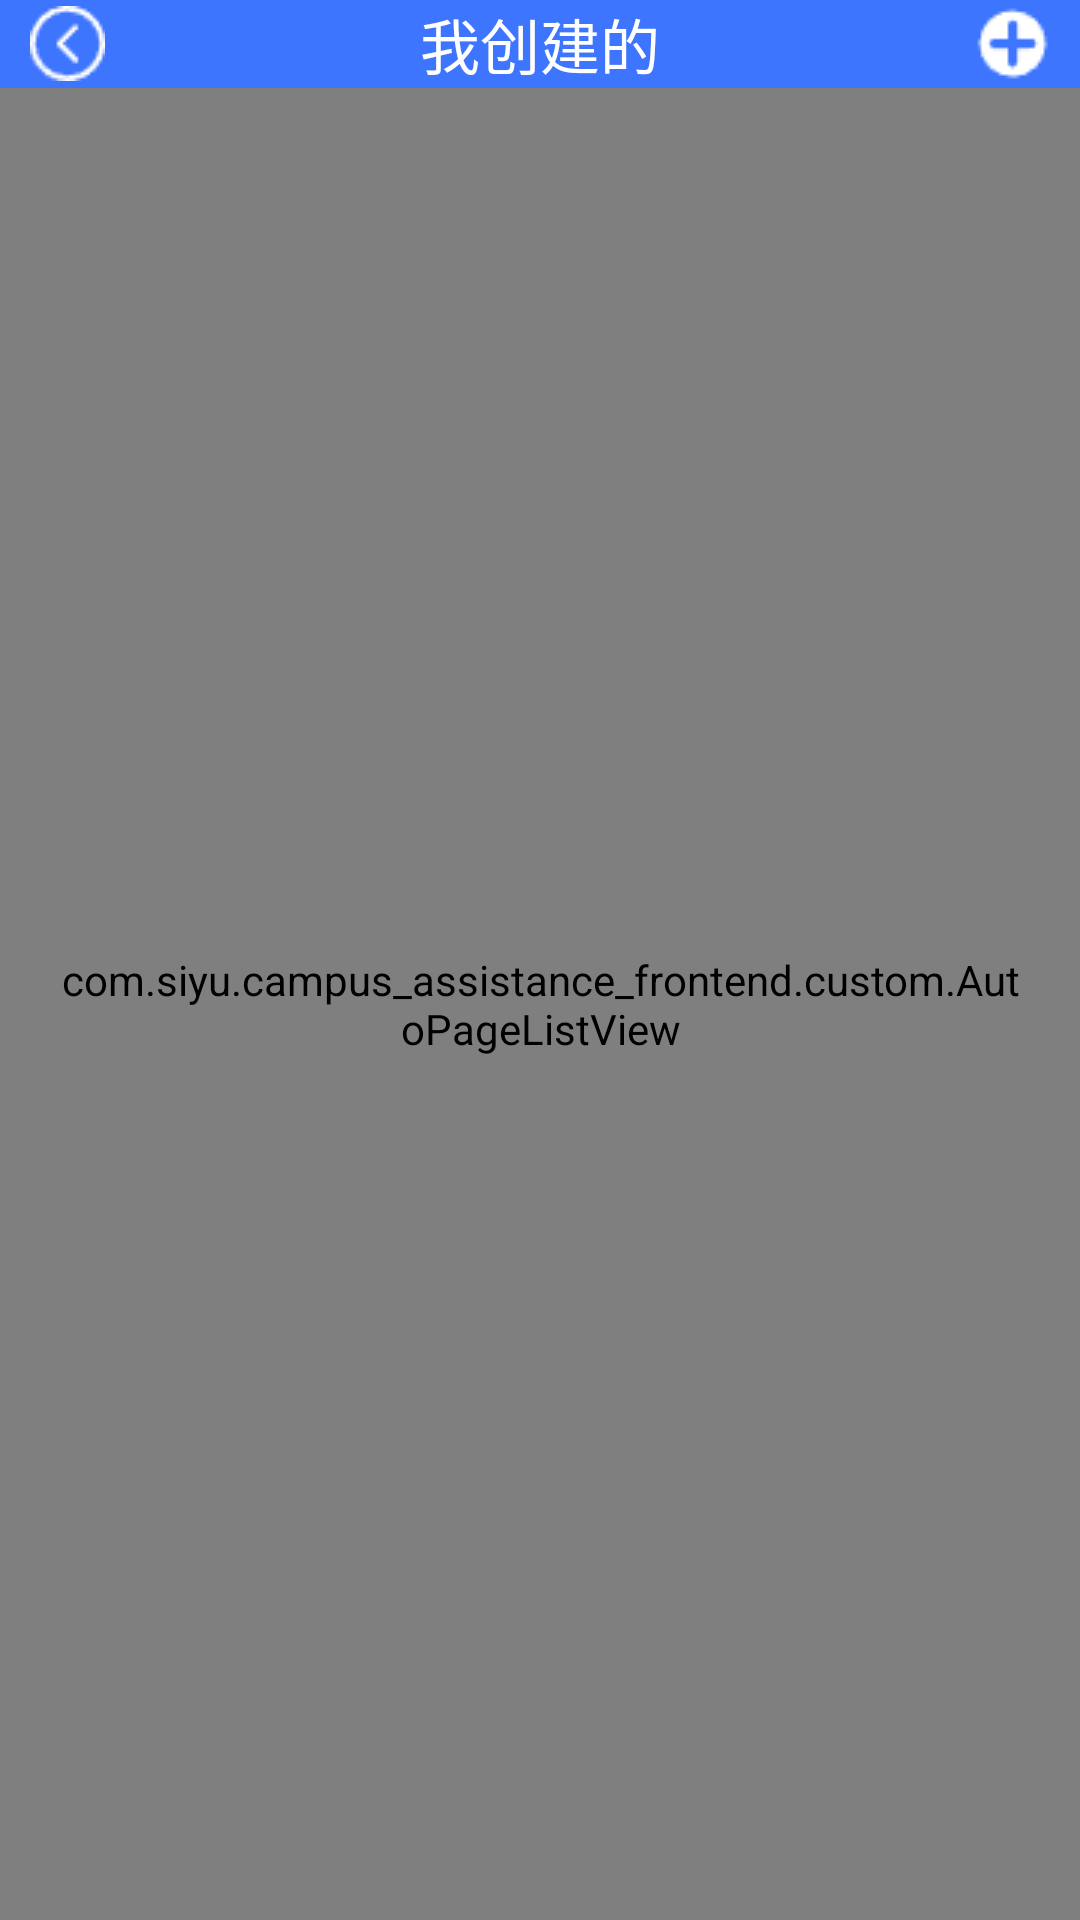

Icon click points for this 1080*1920 phone screenshot, format [x,y]:
back: [67,43]
plus: [1012,44]
